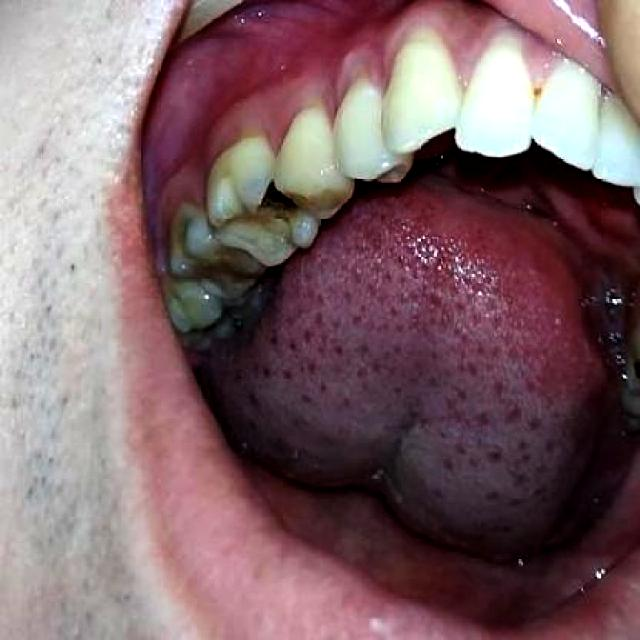Plaque: (249, 177, 298, 255)
